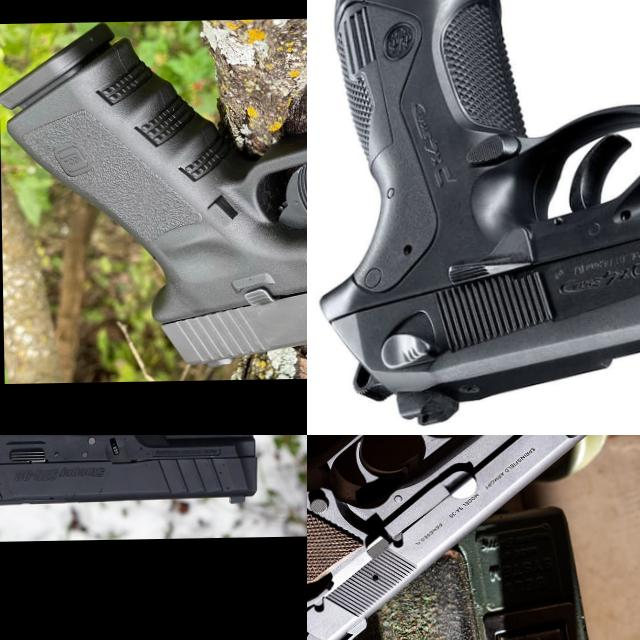handgun: (308, 0, 640, 431), (0, 12, 307, 374), (307, 435, 640, 640), (0, 435, 261, 573)
